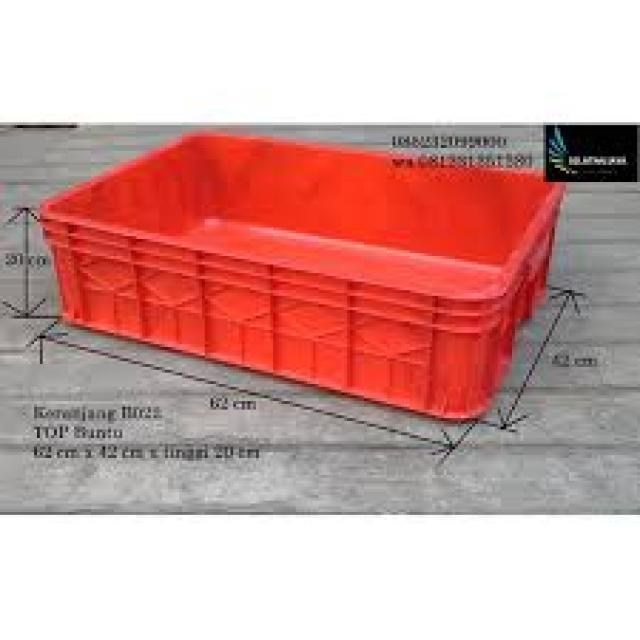basket: (22, 118, 567, 432)
